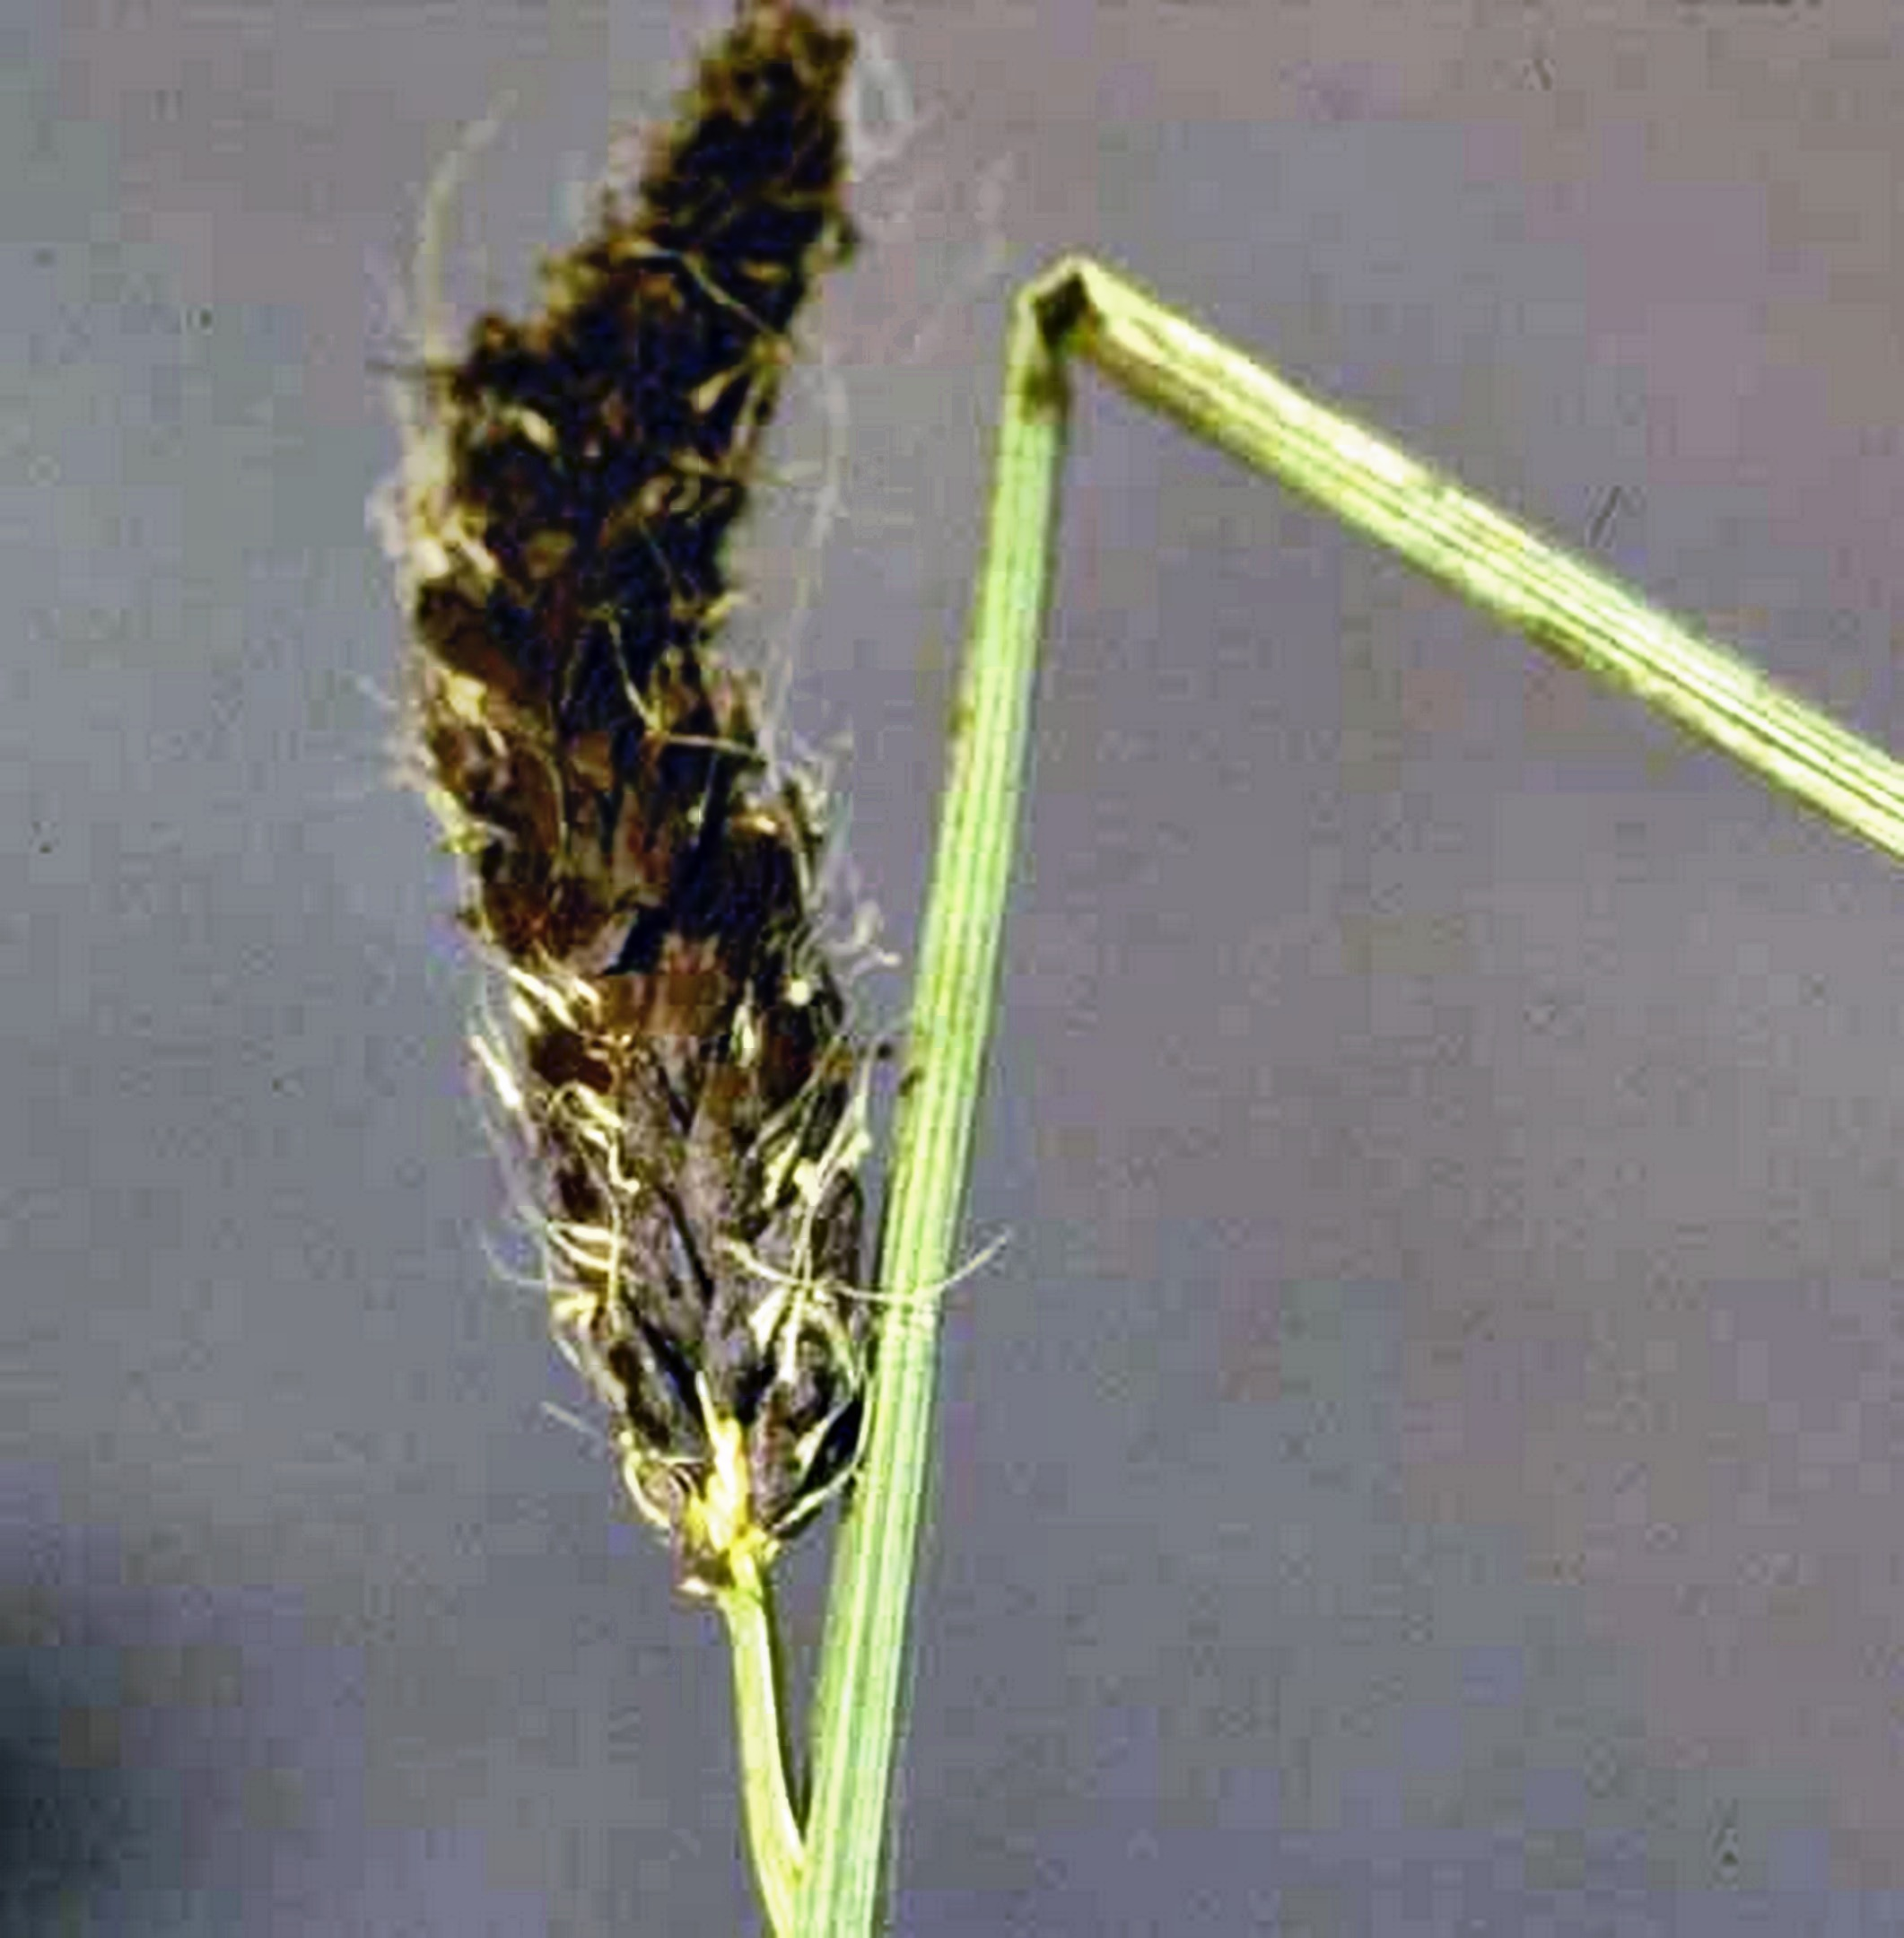Wheat Loose Smut: (300, 59, 915, 1596)
